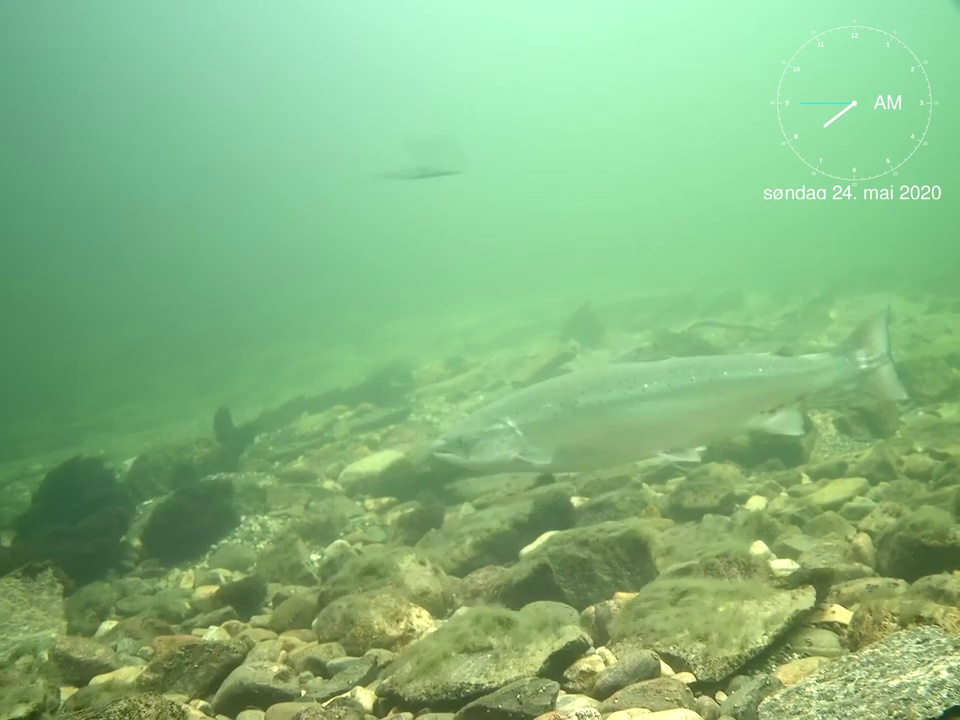salmon: (429, 301, 913, 477)
